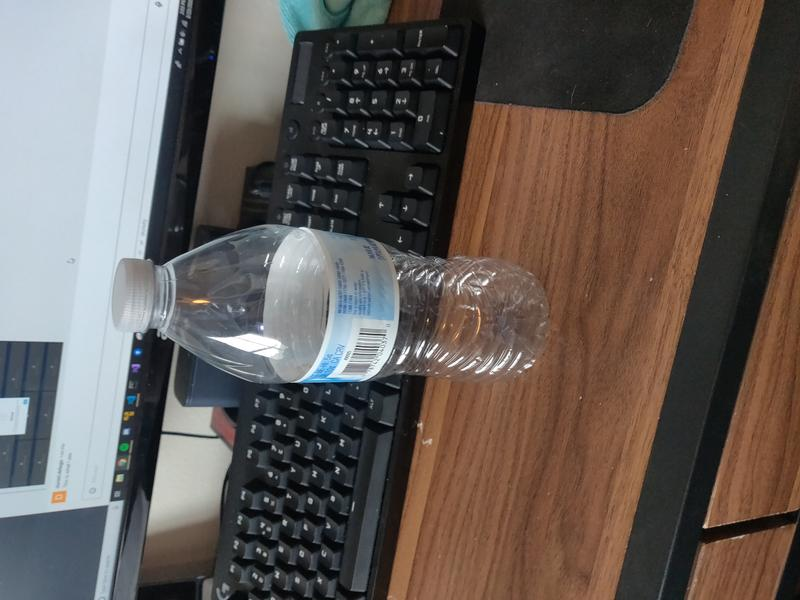bottle: (110, 222, 551, 386)
